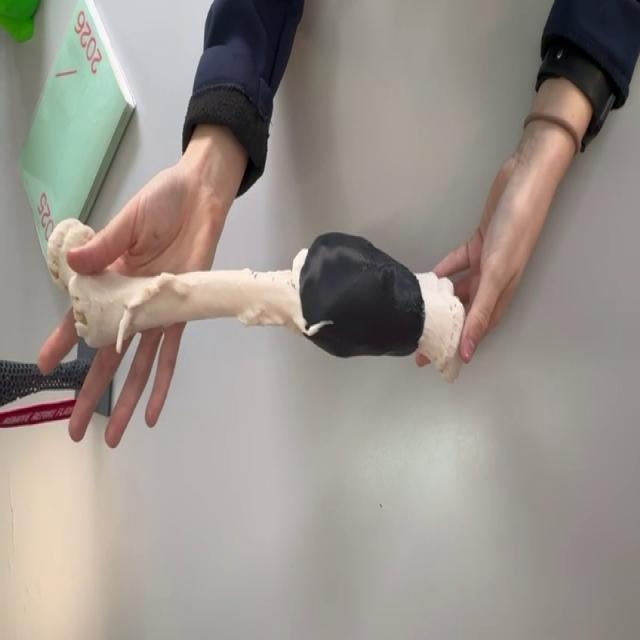bones: (47, 219, 464, 381)
